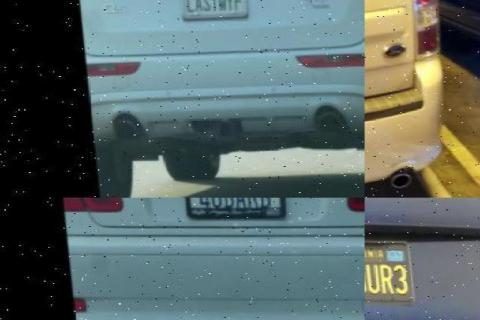LicensePlate: (364, 239, 426, 310), (176, 198, 282, 230), (365, 141, 402, 184), (171, 0, 244, 21)
